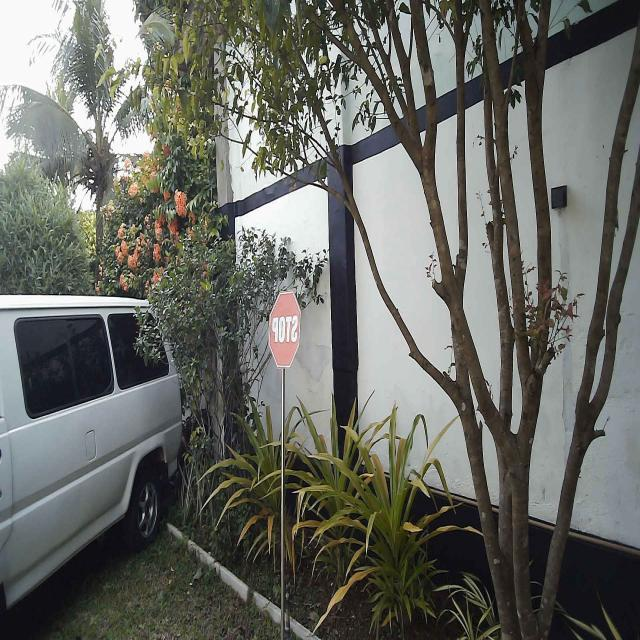stop: (266, 288, 302, 371)
